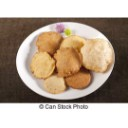poori: (82, 38, 113, 73), (54, 48, 82, 76), (29, 51, 53, 80), (38, 31, 61, 55), (64, 70, 91, 88), (60, 34, 87, 51), (44, 73, 65, 92)
